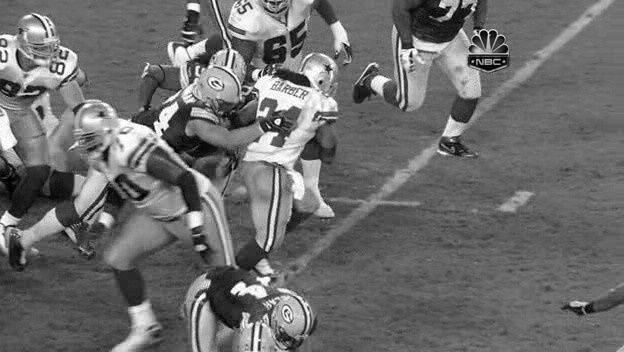person: (304, 52, 338, 95), (303, 52, 337, 95), (305, 52, 339, 95), (304, 51, 338, 94), (304, 53, 338, 96)
target_negative: (8, 273, 303, 293), (421, 180, 482, 255), (295, 199, 320, 337), (571, 29, 578, 93), (406, 228, 416, 269), (559, 338, 577, 342)
